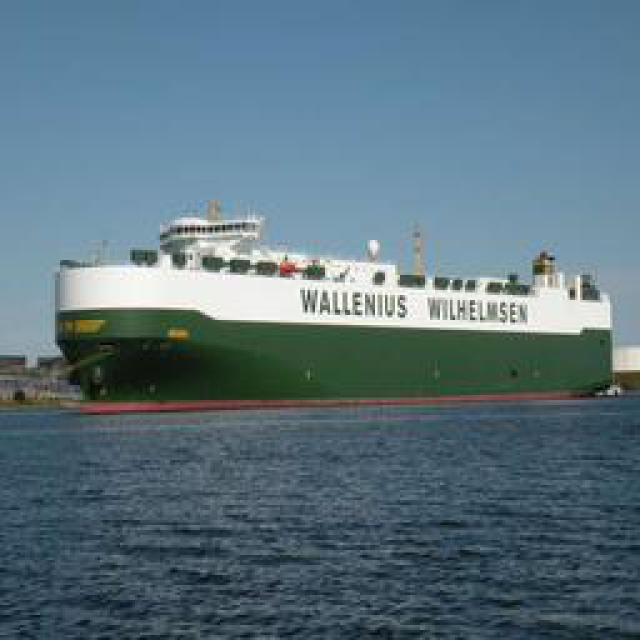Ship: (56, 204, 616, 407)
